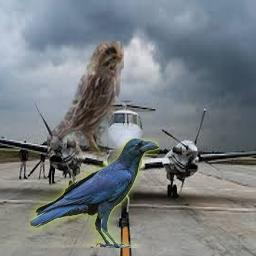Crow: (29, 138, 159, 248)
Sparrow: (47, 41, 124, 161)
